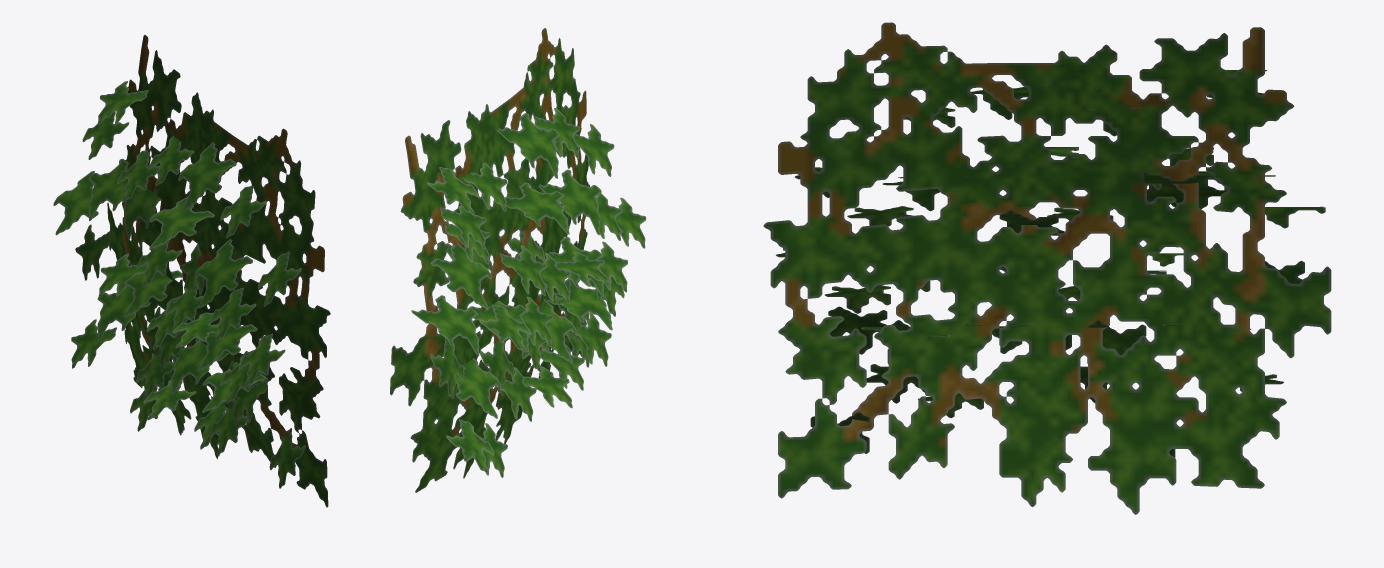
Rendered from Ivy_2.fbx.
3 views of the same model, side by side, from view 1: azimuth 30°, elevation 25°; view 2: azimuth 150°, elevation 25°; view 3: azimuth 270°, elevation 25° (orthographic). The views are drawn at different scales.
Parts seen in each view (by area): view 1: Plane.003; view 2: Plane.003; view 3: Plane.003.
Part boxes in pixels (bbox=[...]): Plane.003: bbox=[53, 35, 330, 507]; Plane.003: bbox=[390, 28, 646, 492]; Plane.003: bbox=[763, 22, 1331, 514].
Size of the model in its own units: 73.96 by 250 by 276.
